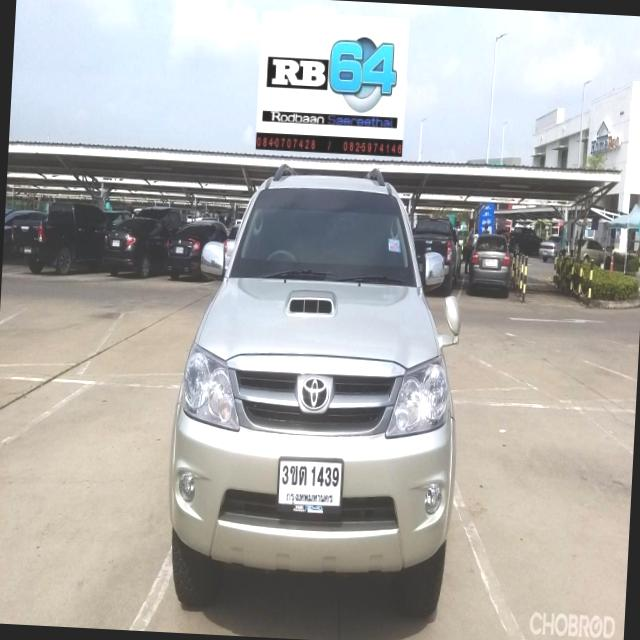license_plate: (277, 455, 346, 516), (484, 258, 501, 271), (173, 242, 184, 258), (110, 236, 120, 250)
